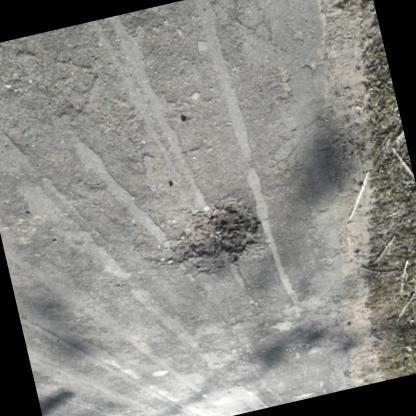pothole: (152, 200, 267, 276)
